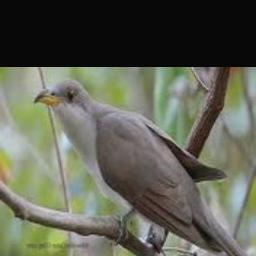Cuckoo: (35, 78, 249, 256)
